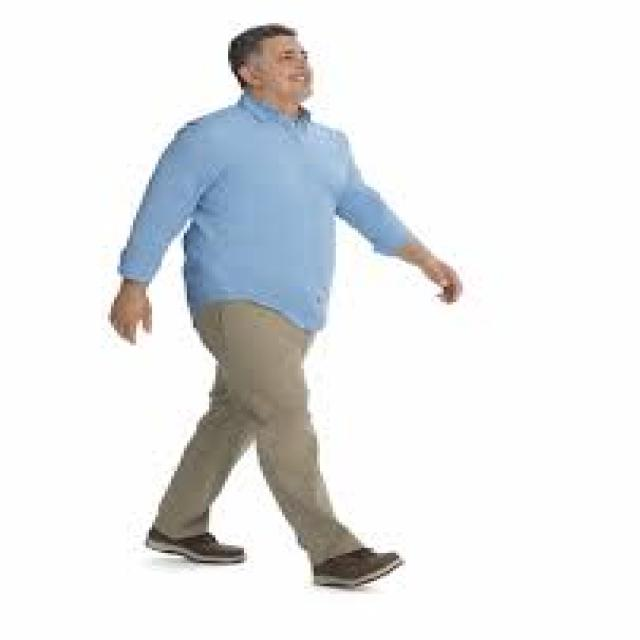nonfall: (113, 15, 451, 586)
